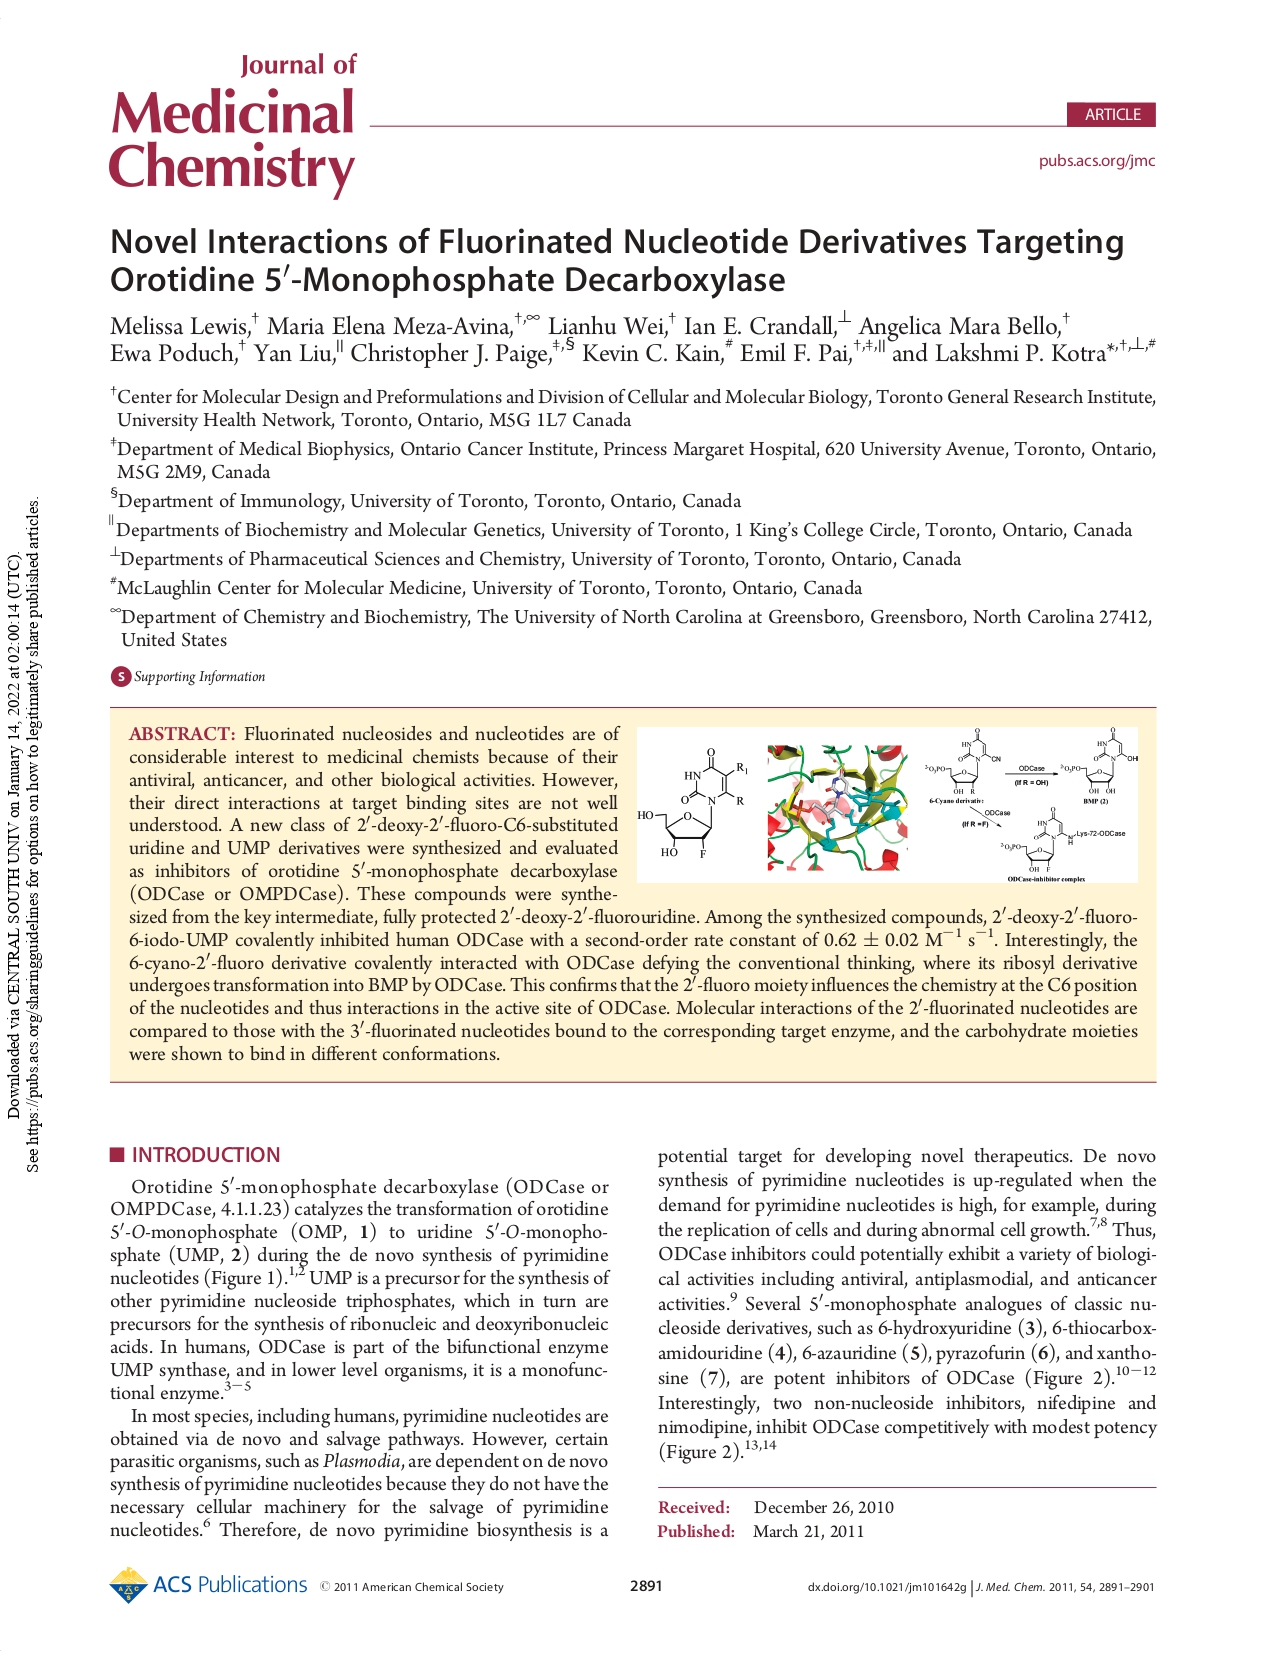exist_molecular: (634, 745, 751, 866), (1000, 806, 1126, 874), (1059, 727, 1140, 797), (923, 726, 1001, 795)
